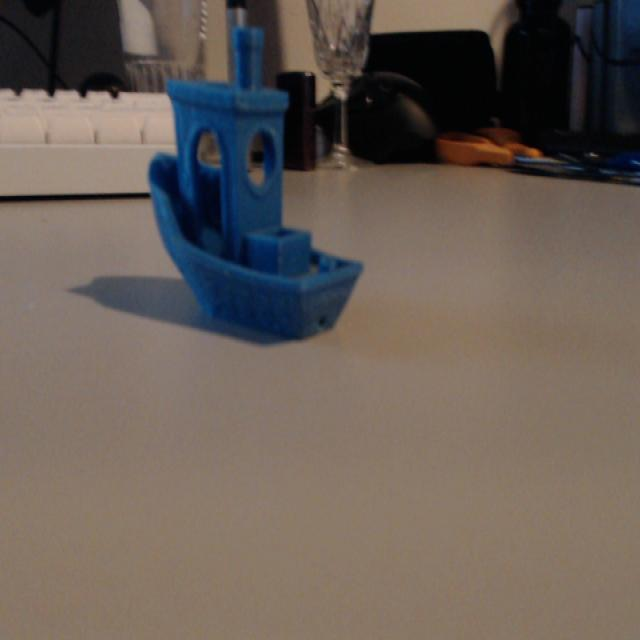benchy: (144, 21, 365, 343)
